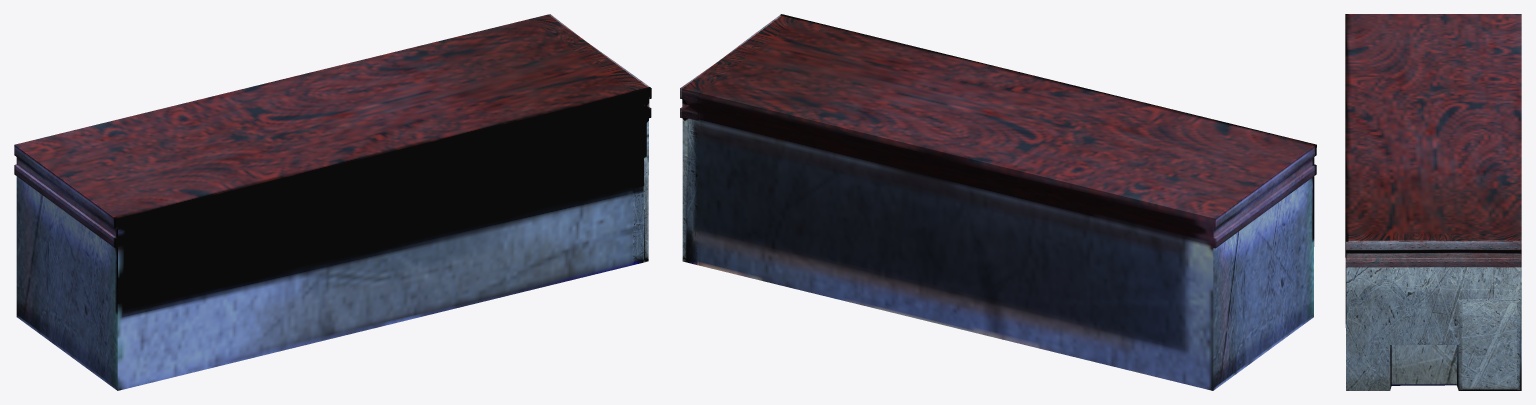
Rendered from Platform4.fbx.
3 views of the same model, side by side, from view 1: azimuth 30°, elevation 25°; view 2: azimuth 150°, elevation 25°; view 3: azimuth 270°, elevation 25° (orthographic). The views are drawn at different scales.
Visible parts, largest first — view 1: Platform 4; view 2: Platform 4; view 3: Platform 4.
Part boxes in pixels (left/top/right/bottom): Platform 4: left=14, top=14, right=651, bottom=390; Platform 4: left=680, top=14, right=1316, bottom=390; Platform 4: left=1345, top=14, right=1521, bottom=390.
Bounding box in the file's own units: 412 × 128 × 135.
